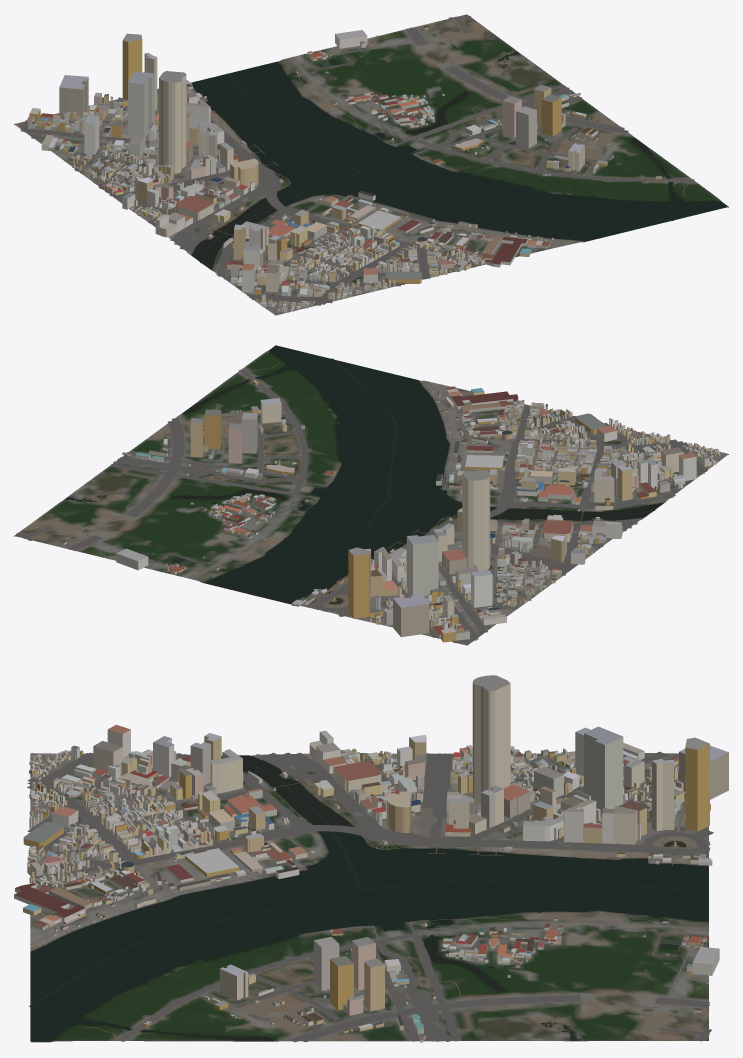
3 views of the same model, one above another, from view 1: azimuth 30°, elevation 25°; view 2: azimuth 150°, elevation 25°; view 3: azimuth 270°, elevation 25° (orthographic). The views are drawn at different scales.
Parts seen in each view (by area): view 1: buildings, ground, water, roads; view 2: buildings, ground, water, roads; view 3: buildings, ground, water, roads.
Boxes of the visible parts, <box> form: buildings: <box>26,25,661,312</box>; ground: <box>14,14,728,315</box>; water: <box>191,51,727,269</box>; roads: <box>15,15,695,315</box>; buildings: <box>61,380,720,642</box>; ground: <box>14,345,728,645</box>; water: <box>64,345,663,604</box>; roads: <box>16,365,727,645</box>; buildings: <box>14,675,728,1042</box>; ground: <box>30,753,708,1042</box>; water: <box>29,755,709,1041</box>; roads: <box>27,751,713,1042</box>.
Bounding box in the file's own units: 1427 × 276 × 1476.
